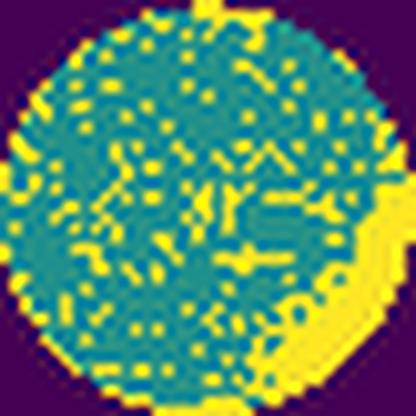Edge-Loc: (255, 108, 415, 416), (106, 379, 255, 416)
